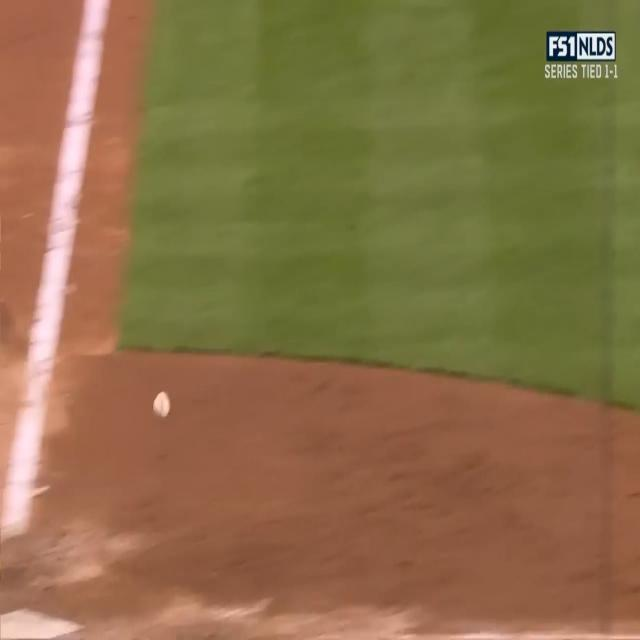baseball: (151, 388, 173, 422)
